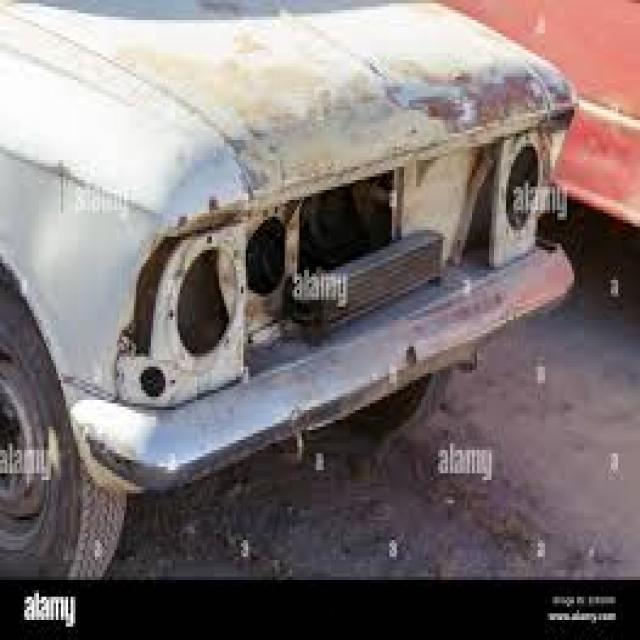damaged-head-light: (143, 232, 303, 358)
